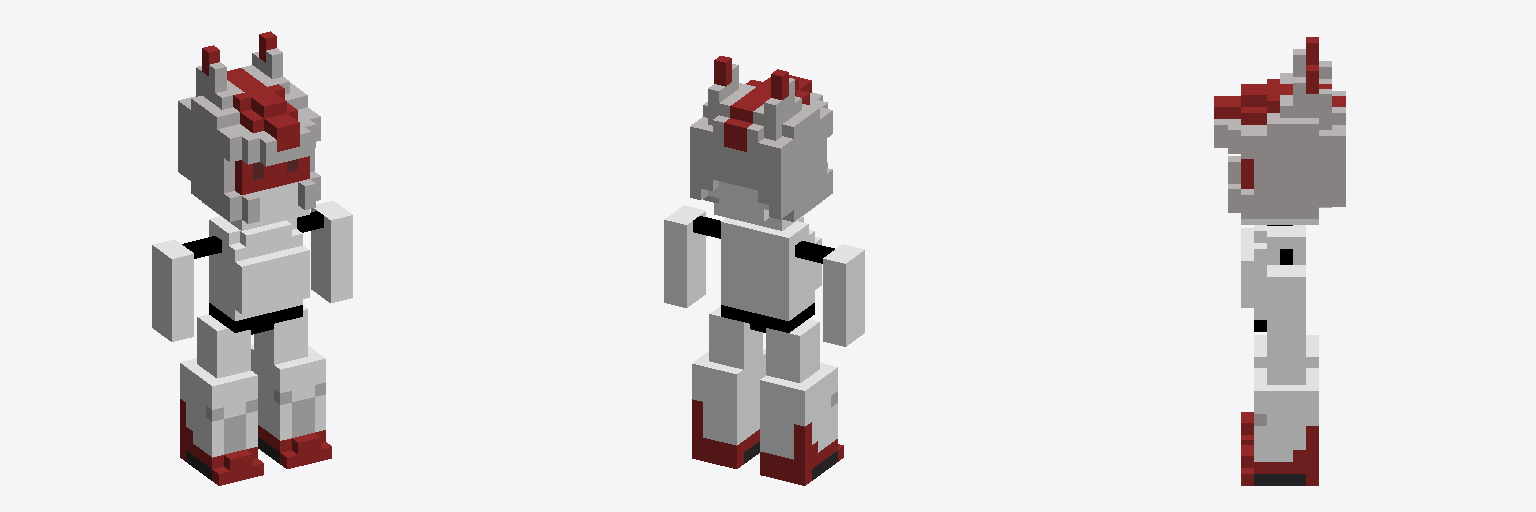
3 views of the same model, side by side, from view 1: azimuth 30°, elevation 25°; view 2: azimuth 150°, elevation 25°; view 3: azimuth 270°, elevation 25° (orthographic).
Visible parts, largest first — view 1: Model; view 2: Model; view 3: Model.
Part boxes in pixels (left/top/right/bottom): Model: left=152, top=31, right=352, bottom=485; Model: left=664, top=56, right=864, bottom=485; Model: left=1214, top=37, right=1345, bottom=485.
Size of the model in its own units: 10.24 by 21.76 by 6.4.
Materials: 1 (1 with a texture image).